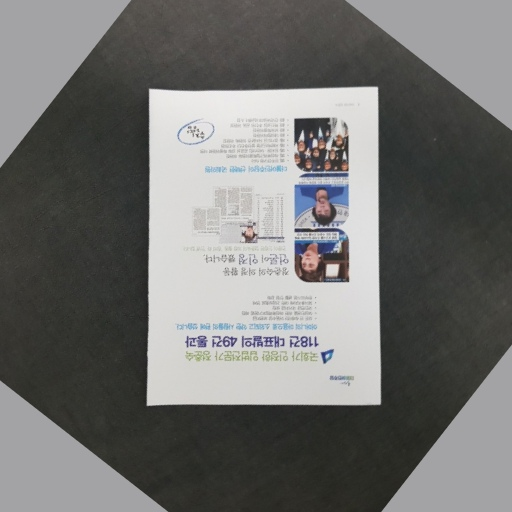Paper_2: (142, 78, 394, 417)
